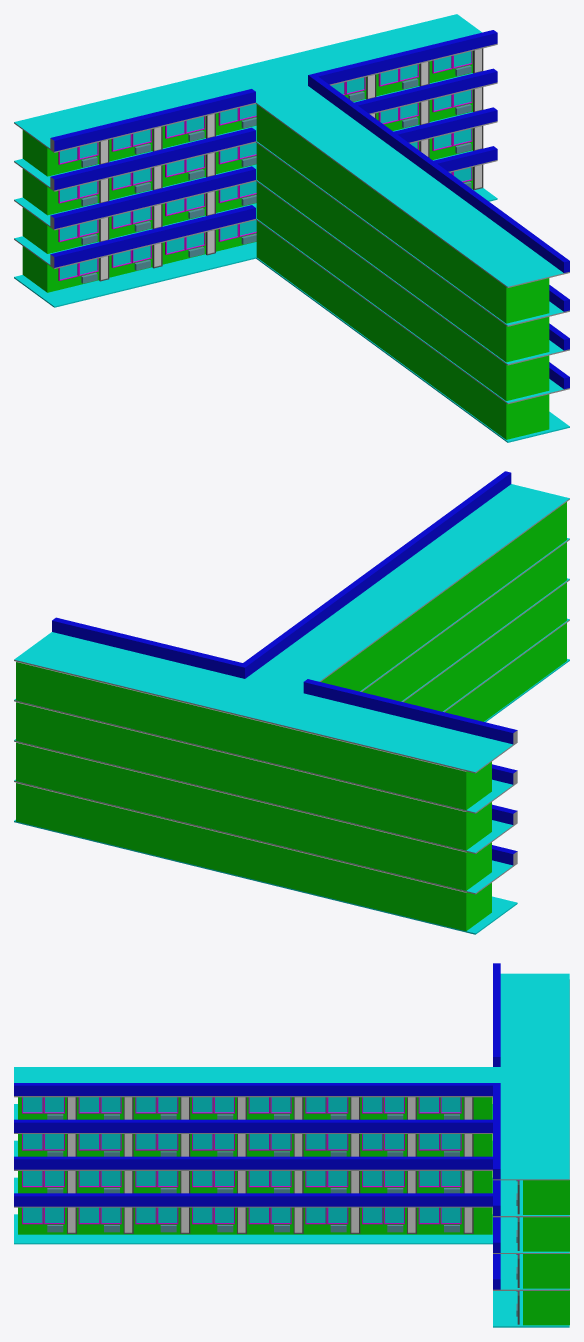
File: Bulding.fbx
3 renders of one model, top to bottom at view 1: azimuth 30°, elevation 25°; view 2: azimuth 150°, elevation 25°; view 3: azimuth 270°, elevation 25°, orthographic. The views are drawn at different scales.
Parts seen in each view (by area): view 1: polySurface68, polySurface51, polySurface34, polySurface32, polySurface31, polySurface24, polySurface23, polySurface79, polySurface66, polySurface83, polySurface78, polySurface45 (+15 smaller); view 2: polySurface68, polySurface51, polySurface34, polySurface32, polySurface31; view 3: polySurface68, polySurface32, polySurface51, polySurface34, polySurface31, polySurface17, polySurface20, polySurface16, polySurface19, polySurface22, polySurface8, polySurface18 (+25 smaller).
Part boxes in pixels (x1,y1,x2,y2): polySurface68: (14, 14, 569, 323); polySurface51: (14, 68, 569, 362); polySurface34: (14, 107, 569, 400); polySurface32: (14, 146, 569, 439); polySurface31: (14, 188, 569, 442); polySurface24: (111, 243, 162, 270); polySurface23: (58, 256, 109, 283); polySurface79: (432, 48, 483, 76); polySurface66: (58, 178, 109, 206); polySurface83: (58, 140, 109, 167); polySurface78: (378, 61, 429, 89); polySurface45: (432, 126, 483, 153); polySurface68: (14, 471, 569, 810); polySurface51: (14, 538, 569, 850); polySurface34: (14, 578, 569, 890); polySurface32: (14, 618, 569, 931); polySurface31: (14, 659, 569, 934); polySurface68: (14, 963, 569, 1214); polySurface32: (14, 1177, 569, 1325); polySurface51: (14, 1104, 569, 1251); polySurface34: (14, 1140, 569, 1288); polySurface31: (14, 1214, 569, 1327); polySurface17: (135, 1207, 190, 1233); polySurface20: (305, 1207, 360, 1233); polySurface16: (78, 1207, 133, 1233); polySurface19: (248, 1207, 303, 1233); polySurface22: (418, 1207, 473, 1233); polySurface8: (22, 1207, 76, 1233); polySurface18: (192, 1207, 246, 1233).
Size of the model in its own units: 161 by 57.99 by 184.
